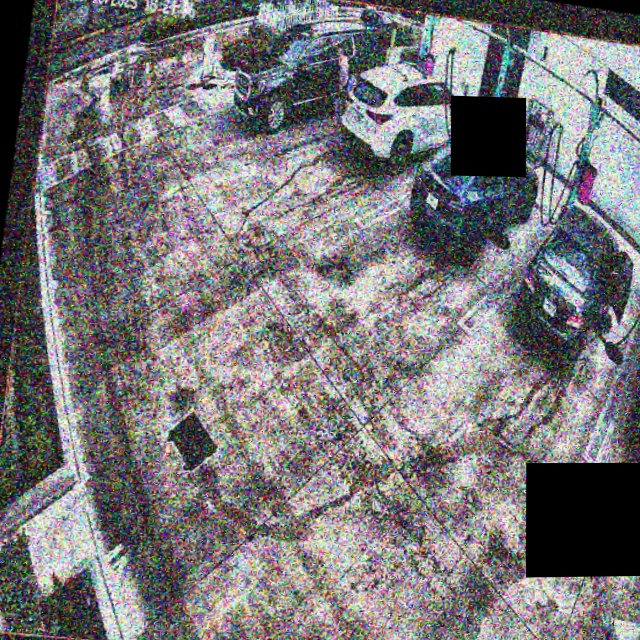Car: (404, 117, 544, 262), (338, 58, 476, 173)
